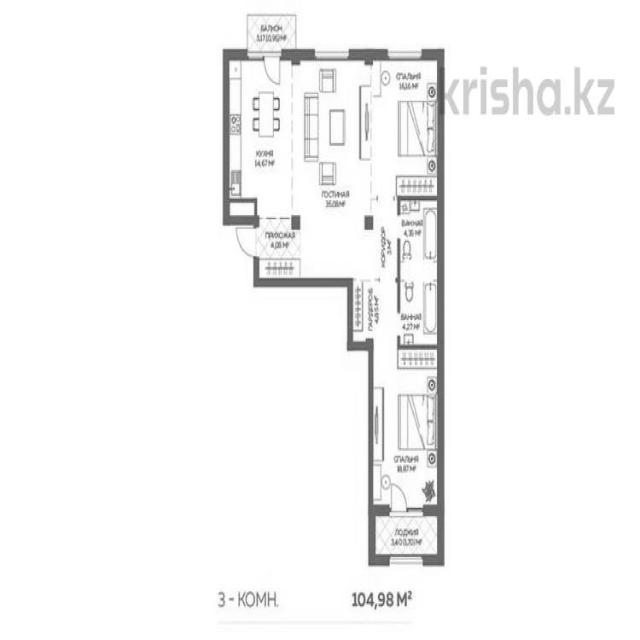balcony: (372, 510, 441, 561)
bathroom: (398, 198, 442, 270), (399, 270, 441, 344)
hallway: (300, 218, 400, 282), (257, 219, 298, 283)
living_room: (370, 346, 444, 510), (372, 52, 445, 201)
other: (350, 280, 380, 347)
studio: (225, 54, 371, 225)
